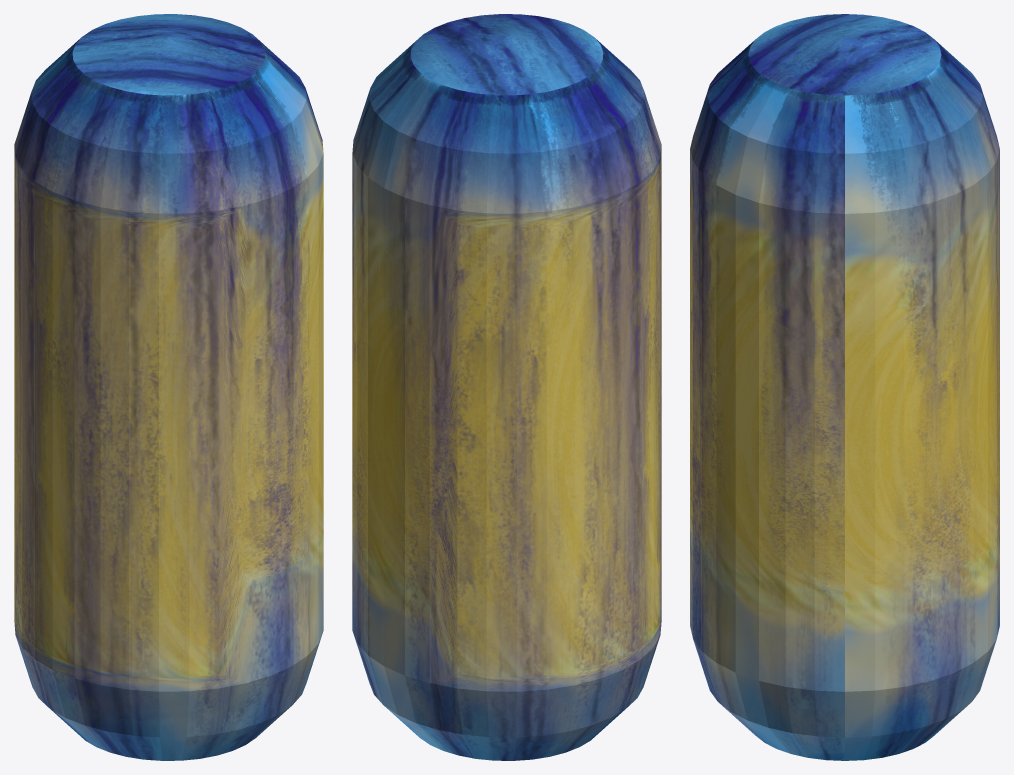
The model's file is PlasmaEnergy_3D.fbx.
3 renders of one model, left to right at view 1: azimuth 30°, elevation 25°; view 2: azimuth 150°, elevation 25°; view 3: azimuth 270°, elevation 25°, orthographic.
Visible parts, largest first — view 1: Cylinder; view 2: Cylinder; view 3: Cylinder.
Part boxes in pixels (left/top/right/bottom): Cylinder: left=14, top=14, right=323, bottom=760; Cylinder: left=352, top=14, right=661, bottom=760; Cylinder: left=690, top=14, right=999, bottom=760.
Size of the model in its own units: 10 by 24.99 by 10.
